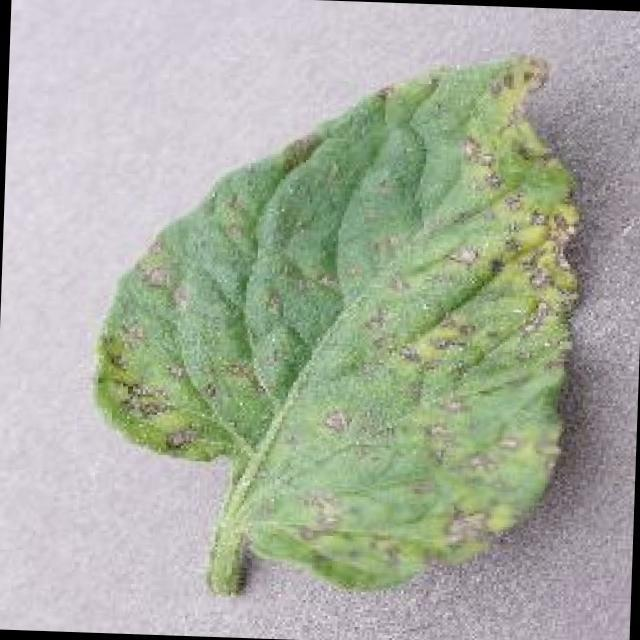Tomato Septoria spot leaf: (89, 36, 582, 597)
